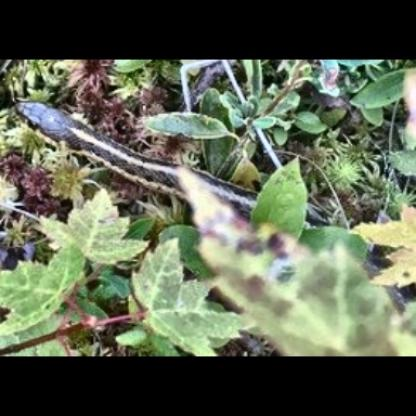Snake: (12, 89, 348, 239)
